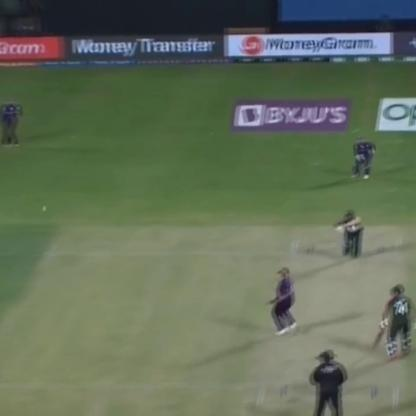ball: (34, 200, 50, 216)
pitch: (258, 224, 408, 416)
